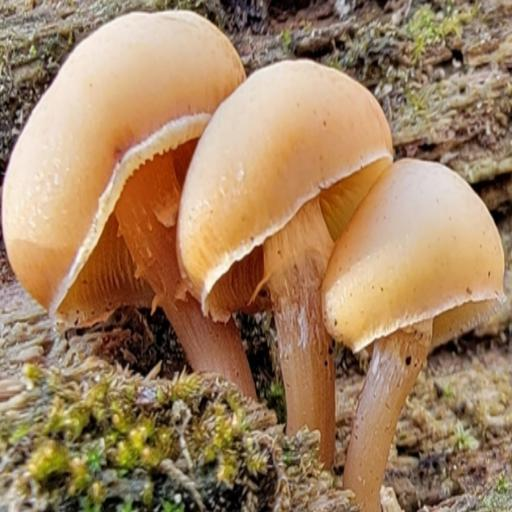mushroom: (1, 8, 512, 393)
